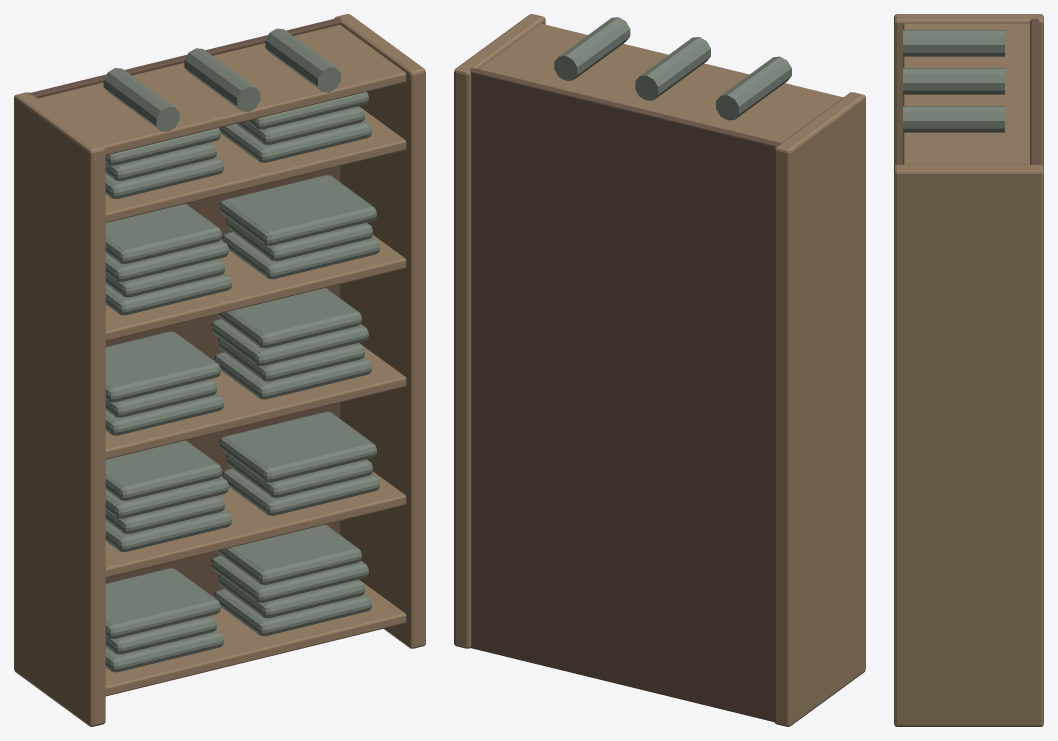
3 renders of one model, left to right at view 1: azimuth 30°, elevation 25°; view 2: azimuth 150°, elevation 25°; view 3: azimuth 270°, elevation 25°, orthographic. The views are drawn at different scales.
Visible parts, largest first — view 1: linenShelf; view 2: linenShelf; view 3: linenShelf.
Boxes of the visible parts, left/top/right/bottom form: linenShelf: left=14, top=14, right=425, bottom=726; linenShelf: left=454, top=14, right=865, bottom=726; linenShelf: left=894, top=14, right=1043, bottom=726.
Size of the model in its own units: 1.25 by 2.12 by 0.5.
